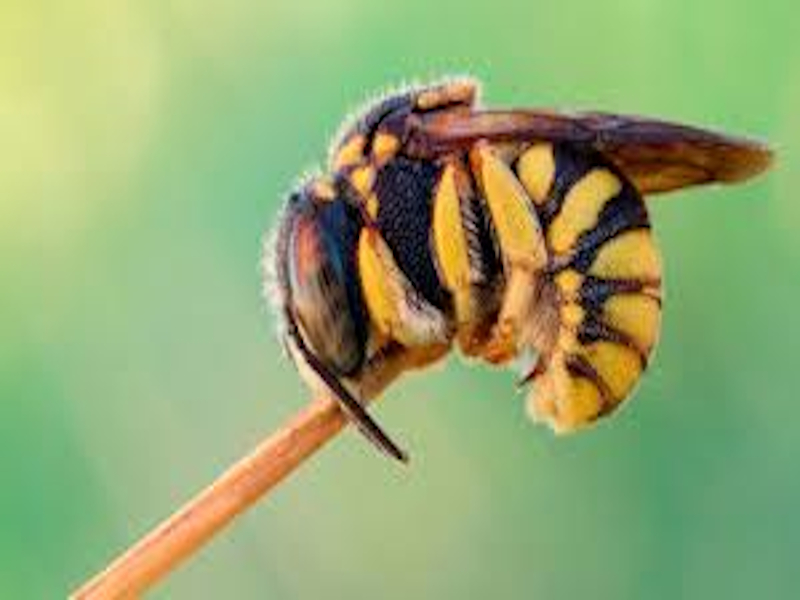chax: (240, 67, 691, 475)
